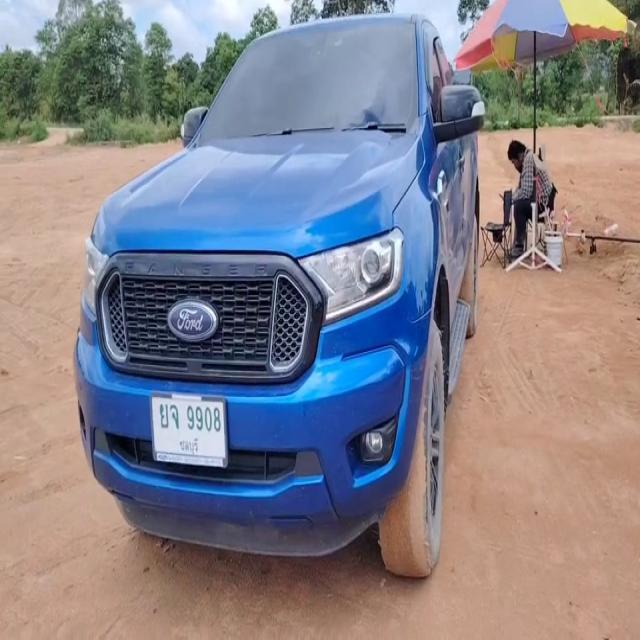Digit: (185, 406, 222, 432)
Licenseplate: (150, 394, 227, 467)
Provincename: (179, 435, 200, 456)
Thaichar: (159, 404, 180, 430)
